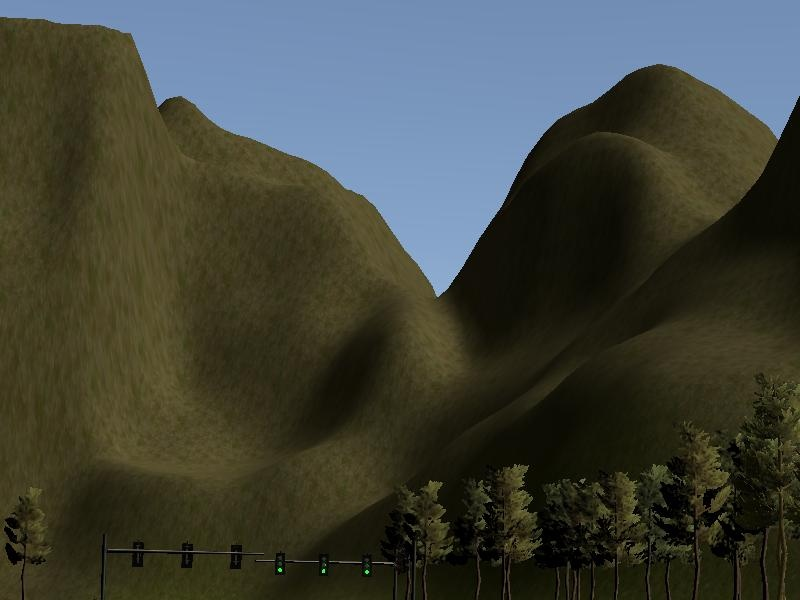green: (272, 550, 287, 576), (318, 553, 330, 578), (360, 553, 372, 578)
